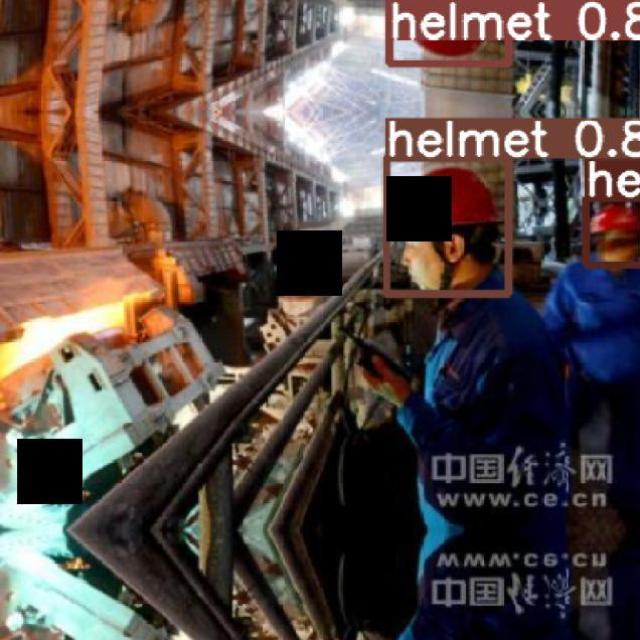helmet: (425, 166, 503, 226)
